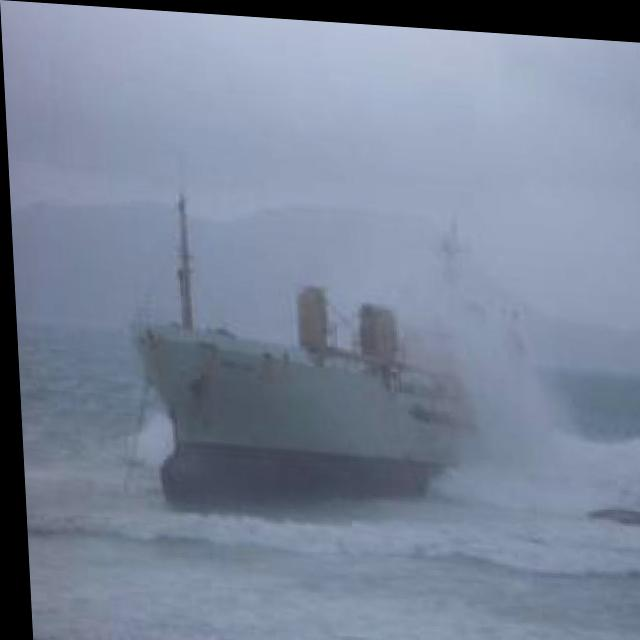ship2: (135, 189, 473, 499)
